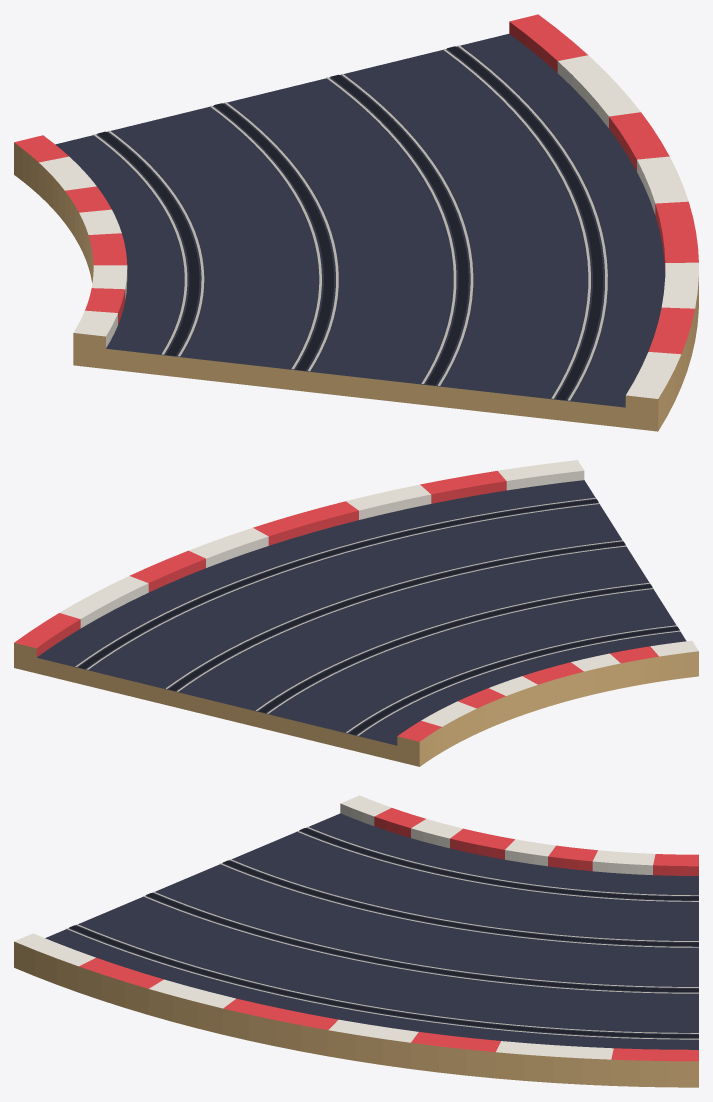
The model's file is Track_4L_Curve45_R.fbx.
3 renders of one model, top to bottom at view 1: azimuth 30°, elevation 25°; view 2: azimuth 150°, elevation 25°; view 3: azimuth 270°, elevation 25°, orthographic. The views are drawn at different scales.
Visible parts, largest first — view 1: Track_4L_Curve45_R; view 2: Track_4L_Curve45_R; view 3: Track_4L_Curve45_R.
Part boxes in pixels (x1,y1,x2,y2): Track_4L_Curve45_R: (14, 14, 698, 431); Track_4L_Curve45_R: (14, 460, 698, 766); Track_4L_Curve45_R: (14, 795, 698, 1087).
Bounding box in the file's own units: 6.95 × 0.32 × 7.57.
